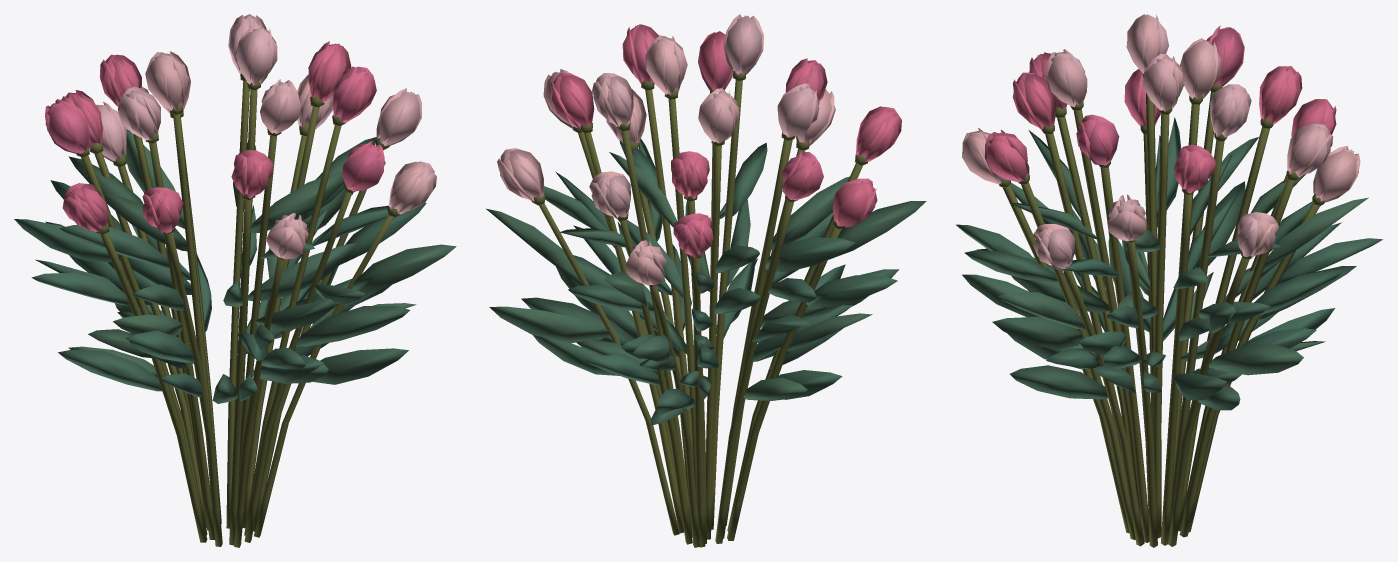
The model's file is bucket_tulips_pink.glb.
3 renders of one model, left to right at view 1: azimuth 30°, elevation 25°; view 2: azimuth 150°, elevation 25°; view 3: azimuth 270°, elevation 25°, orthographic.
Visible parts, largest first — view 1: Sammel Pflanze, Sammel Putz; view 2: Sammel Pflanze, Sammel Putz; view 3: Sammel Pflanze, Sammel Putz.
Boxes of the visible parts, x1,y1,x2,y2 form: Sammel Pflanze: (14,14,456,403); Sammel Putz: (76,74,400,547); Sammel Pflanze: (486,14,926,425); Sammel Putz: (531,70,867,547); Sammel Pflanze: (956,14,1382,410); Sammel Putz: (999,73,1325,547).
Bounding box in the file's own units: 0.4431 × 0.5554 × 0.4341.
